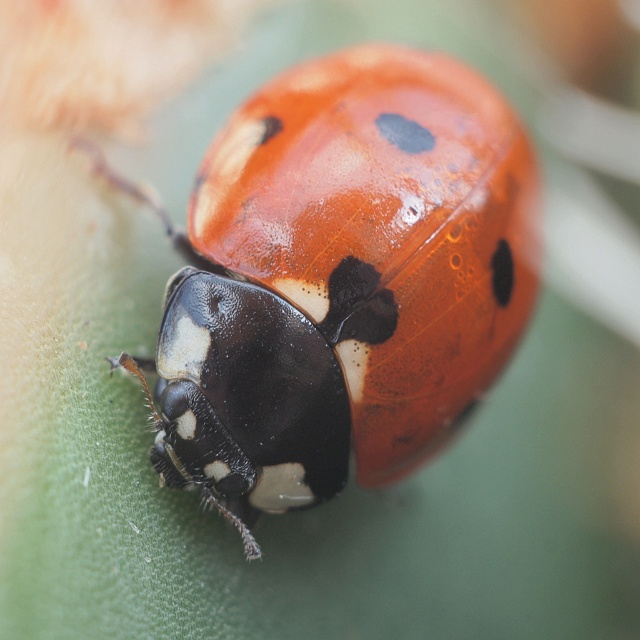Ladybug: (67, 39, 545, 559)
